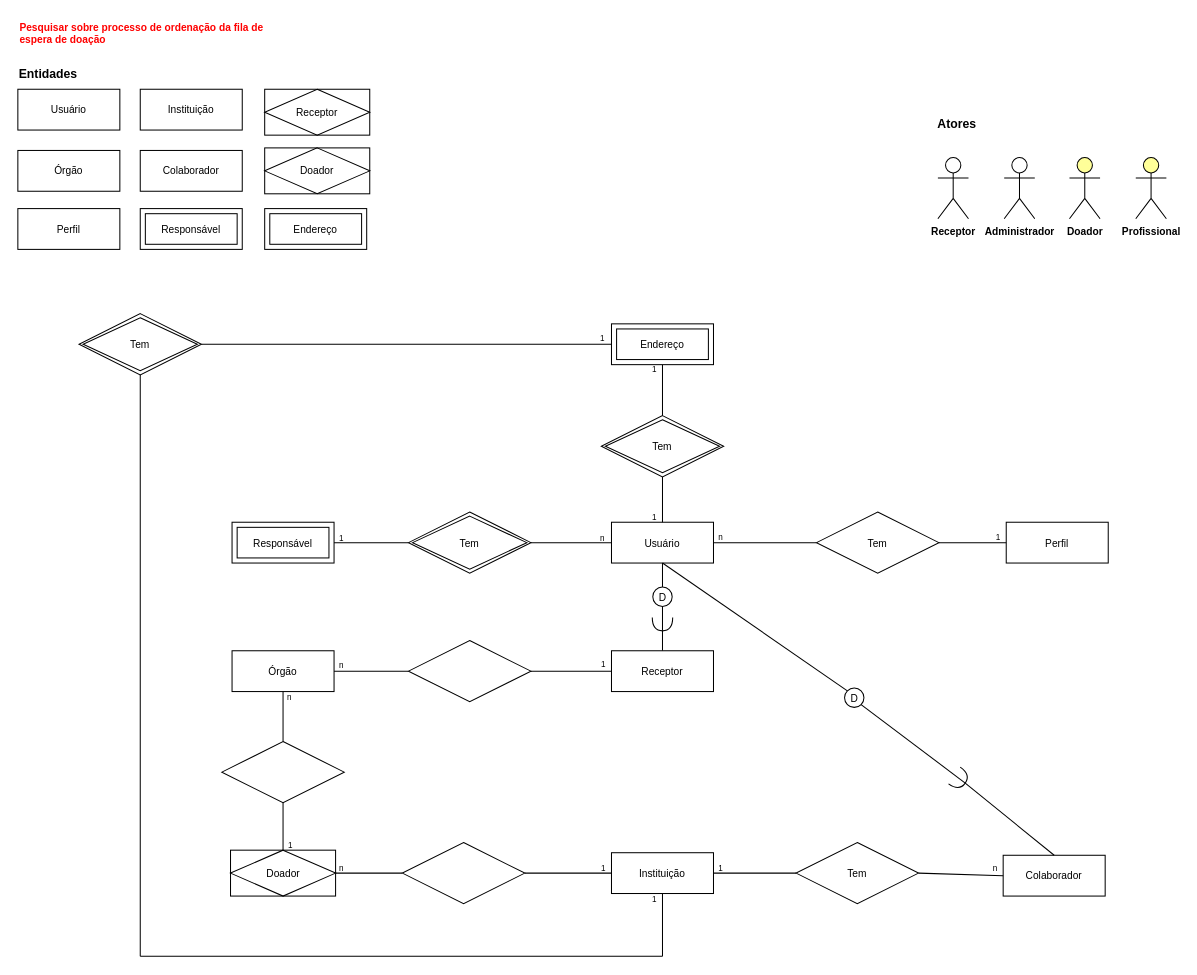
Image size: 1197x975. Some labels were removed from this diagram. The shapes that lost their labels are listed below. From the top down, each one's centre as x and y in pixels, then its label:
At (x=469, y=671): "Precisa".
At (x=282, y=772): "Doa".
At (x=463, y=873): "Informa".
